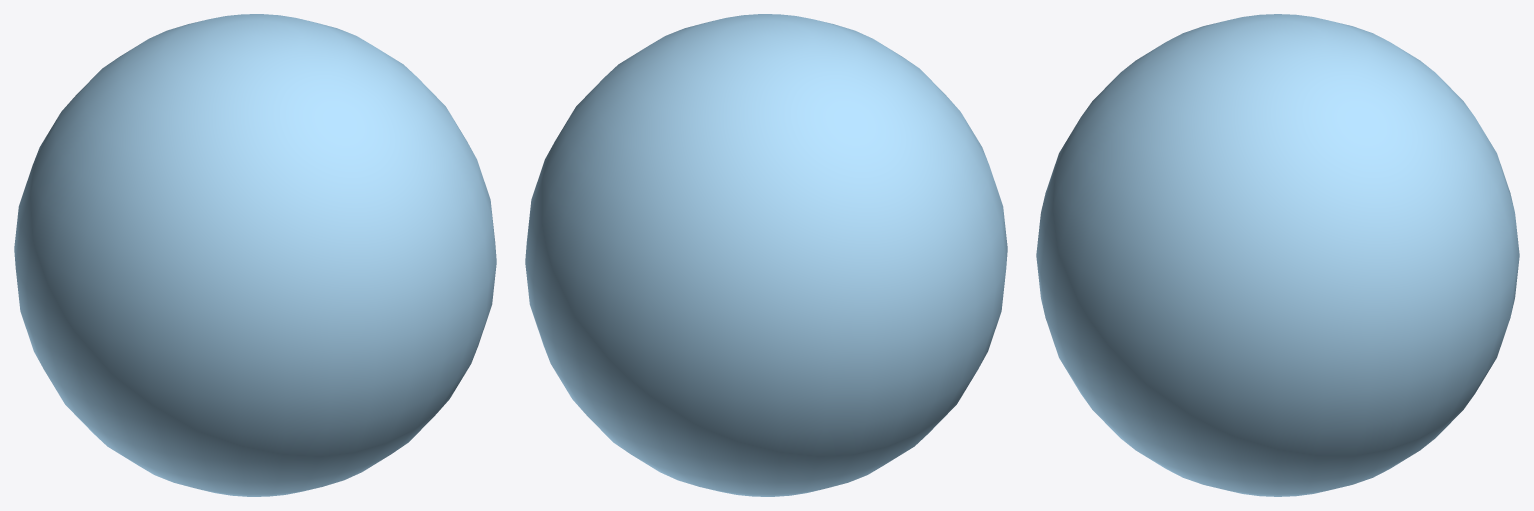
3 renders of one model, left to right at view 1: azimuth 30°, elevation 25°; view 2: azimuth 150°, elevation 25°; view 3: azimuth 270°, elevation 25°, orthographic.
Visible parts, largest first — view 1: bubble; view 2: bubble; view 3: bubble.
Part boxes in pixels (x1,y1,x2,y2): bubble: [14, 14, 496, 496]; bubble: [525, 14, 1007, 496]; bubble: [1036, 14, 1519, 496].
Bounding box in the file's own units: 2 × 2 × 2.
